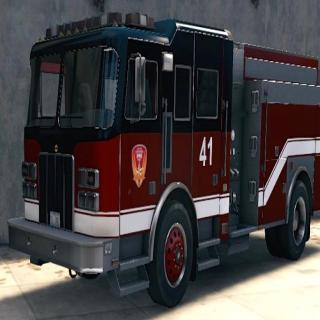Fire_truck: (7, 10, 319, 308)
